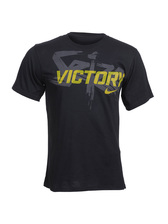clothoes: (11, 32, 155, 192)
